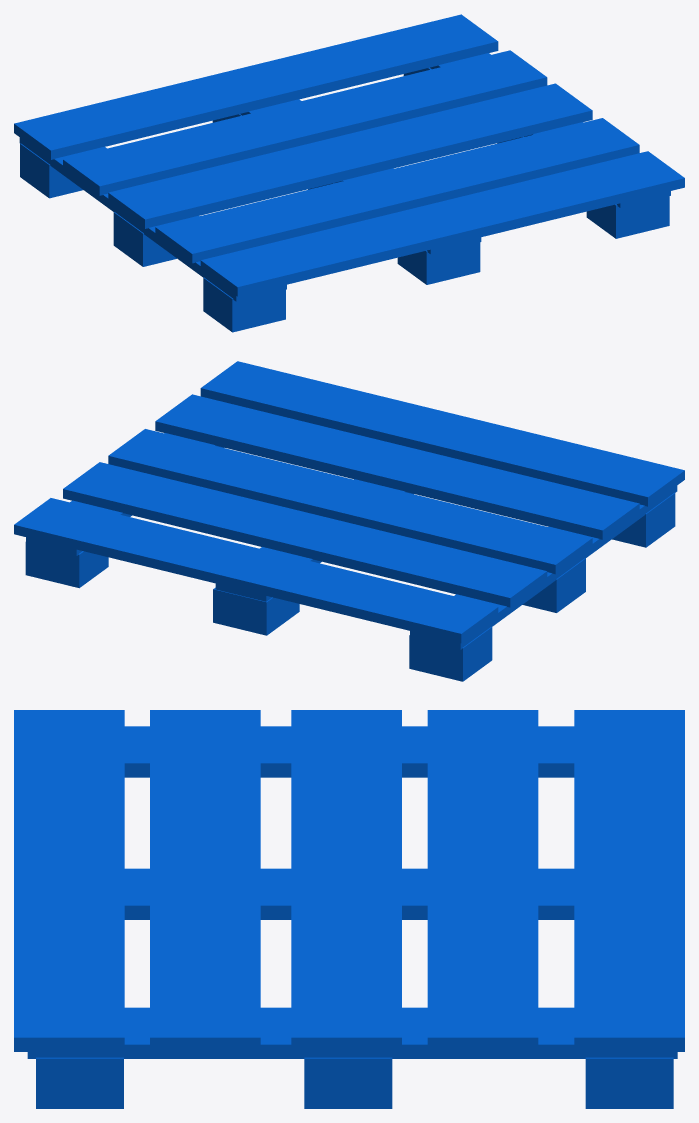
The model's file is Pallet_01_Lod0.fbx.
3 renders of one model, top to bottom at view 1: azimuth 30°, elevation 25°; view 2: azimuth 150°, elevation 25°; view 3: azimuth 270°, elevation 25°, orthographic. The views are drawn at different scales.
Visible parts, largest first — view 1: Pallet_01_Lod0; view 2: Pallet_01_Lod0; view 3: Pallet_01_Lod0.
Part boxes in pixels (box(x1,y1,x2,y2)): Pallet_01_Lod0: box(14, 14, 684, 332); Pallet_01_Lod0: box(14, 361, 684, 681); Pallet_01_Lod0: box(14, 710, 684, 1108).
Bounding box in the file's own units: 139 × 15.25 × 121.
